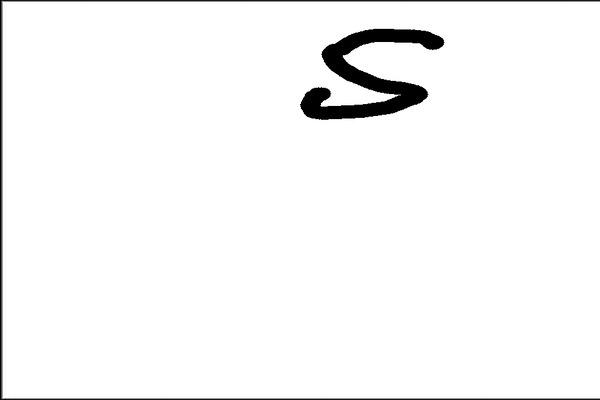S: (294, 22, 450, 130)
